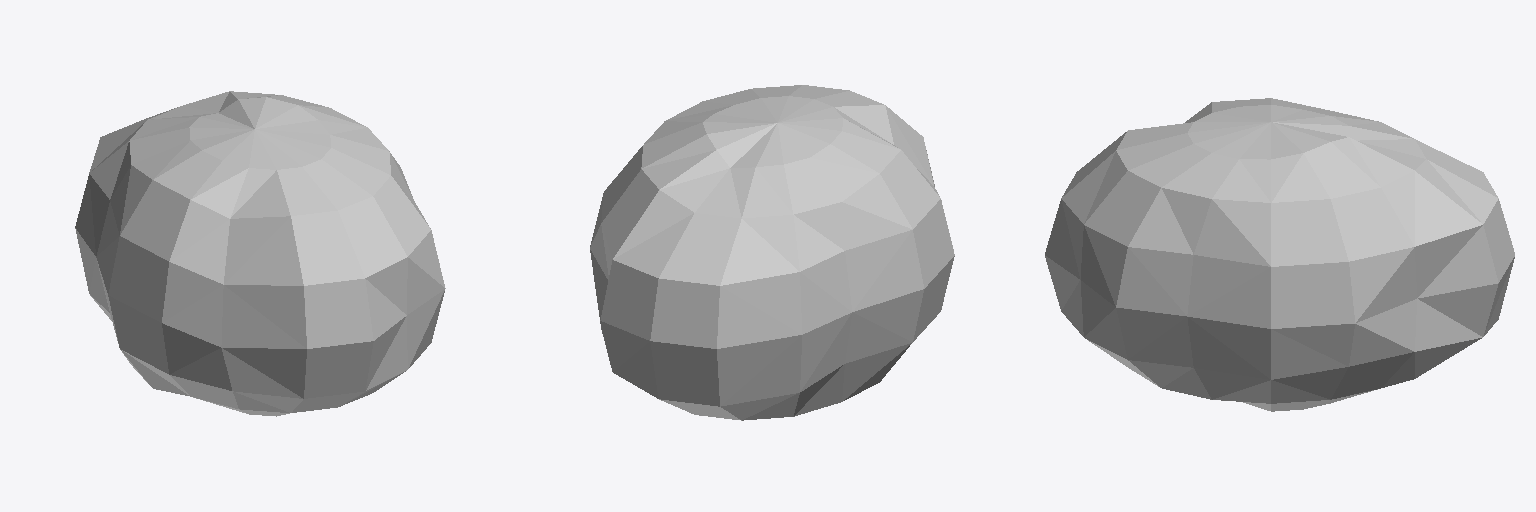
The model's file is Potato.obj.
The picture shows the model from 3 angles: view 1: azimuth 30°, elevation 25°; view 2: azimuth 150°, elevation 25°; view 3: azimuth 270°, elevation 25°; orthographic projection.
Parts seen in each view (by area): view 1: Sphere; view 2: Sphere; view 3: Sphere.
Boxes of the visible parts, <box> form: Sphere: <box>75,91,445,416</box>; Sphere: <box>590,85,954,420</box>; Sphere: <box>1045,98,1514,411</box>.
Bounding box in the file's own units: 2 × 1.65 × 2.68.